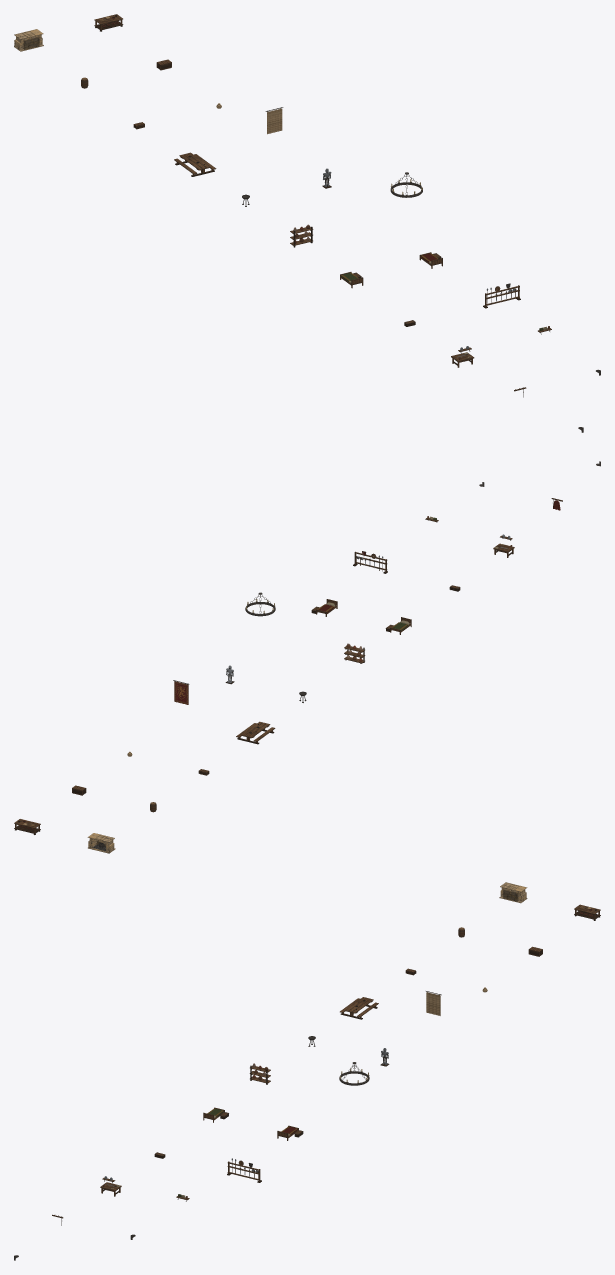
File: blueprint-room-pair.glb
The picture shows the model from 3 angles, top to bottom: view 1: azimuth 30°, elevation 25°; view 2: azimuth 150°, elevation 25°; view 3: azimuth 330°, elevation 25°; orthographic projection. The views are drawn at different scales.
Size of the model in its own units: 5.51 by 2 by 40.49.
1 material, 1 textured.
